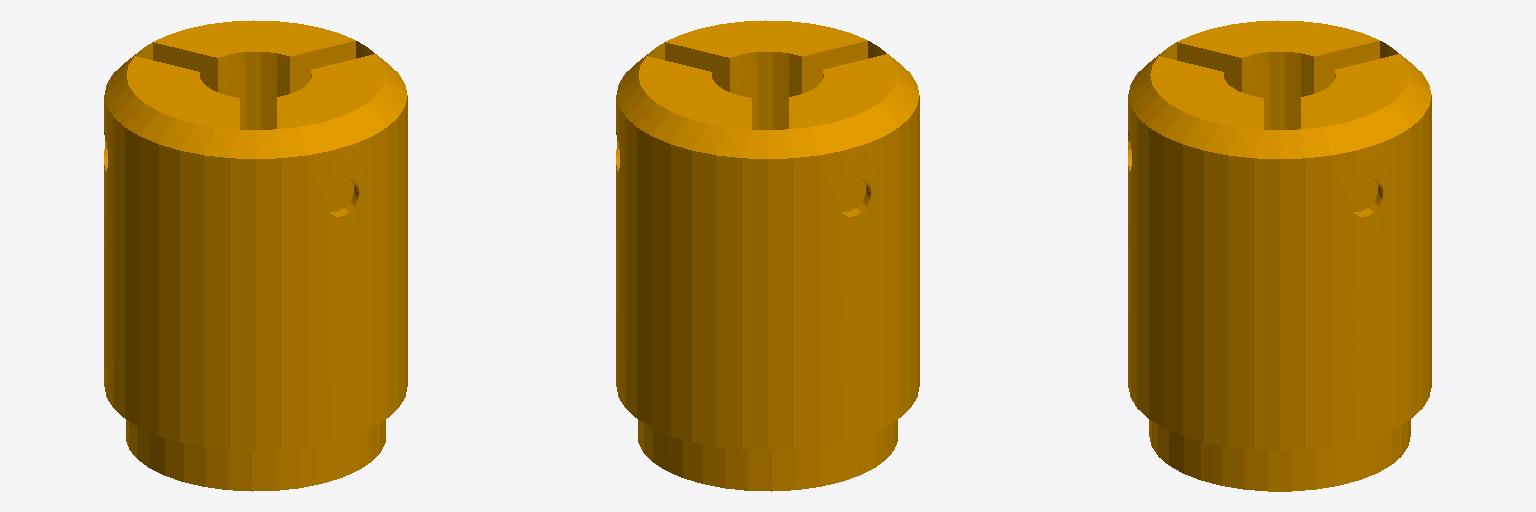
robot.urdf — 00615_plug:
<?xml version="1.0"?>
<robot name="00615_plug">
	<link name="00615_plug">
		<visual>
			<geometry>
				<mesh filename="../mesh/00615/asset_plug.obj"/>
			</geometry>
		</visual>
		<collision>
			<geometry>
				<mesh filename="../mesh/00615/asset_plug.obj"/>
			</geometry>
			<sdf resolution="256"/>
		</collision>
	</link>
</robot>

--- Facts derived from the render (not from the file) ---
3 views of the same robot in one strip: view 1: azimuth 30°, elevation 25°; view 2: azimuth 150°, elevation 25°; view 3: azimuth 270°, elevation 25° (orthographic).
Robot: 00615_plug — 1 links, 0 joints (none); root link 00615_plug; default pose: every joint at zero.
Links seen in each view (by area): view 1: 00615_plug; view 2: 00615_plug; view 3: 00615_plug.
Boxes of the visible links, x1,y1,x2,y2 form: 00615_plug: (104, 20, 407, 491); 00615_plug: (616, 20, 919, 491); 00615_plug: (1128, 20, 1431, 491).
Size in the robot's own frame: 0.0216 by 0.0216 by 0.0284 metres.
Meshes: 1 distinct files referenced, 1 mesh visuals loaded (1 OBJ).
